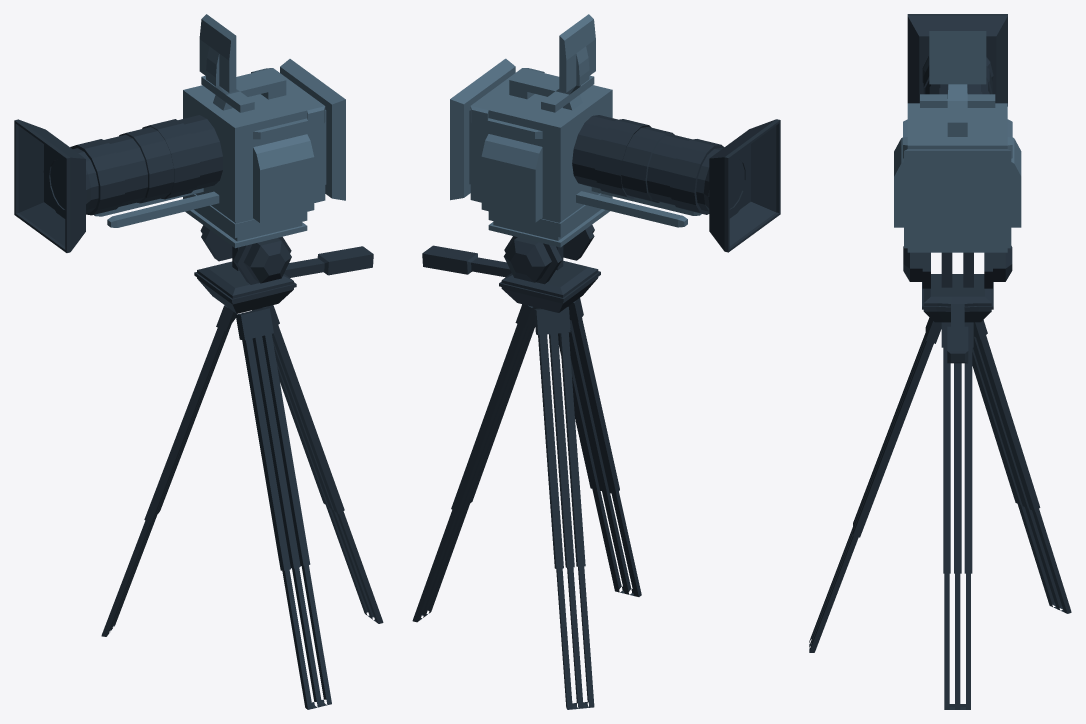
Rendered from studio-camera.glb.
3 renders of one model, left to right at view 1: azimuth 30°, elevation 25°; view 2: azimuth 150°, elevation 25°; view 3: azimuth 270°, elevation 25°, orthographic. The views are drawn at different scales.
Visible parts, largest first — view 1: stativ_Cube.004, RED_body_Cube, Objektiv_Cylinder, sonnenblende_Cube.001; view 2: stativ_Cube.004, RED_body_Cube, Objektiv_Cylinder, sonnenblende_Cube.001; view 3: stativ_Cube.004, RED_body_Cube, sonnenblende_Cube.001, Objektiv_Cylinder.
Boxes of the visible parts, bbox=[...] form: stativ_Cube.004: bbox=[101, 225, 383, 709]; RED_body_Cube: bbox=[94, 14, 345, 248]; Objektiv_Cylinder: bbox=[43, 115, 222, 218]; sonnenblende_Cube.001: bbox=[14, 119, 85, 252]; stativ_Cube.004: bbox=[412, 225, 641, 709]; RED_body_Cube: bbox=[450, 14, 701, 247]; Objektiv_Cylinder: bbox=[572, 115, 750, 218]; sonnenblende_Cube.001: bbox=[709, 119, 780, 252]; stativ_Cube.004: bbox=[809, 246, 1071, 709]; RED_body_Cube: bbox=[894, 31, 1021, 252]; sonnenblende_Cube.001: bbox=[907, 14, 1007, 106]; Objektiv_Cylinder: bbox=[922, 56, 993, 94].
Bounding box in the file's own units: 1.12 × 2.01 × 0.7863.
